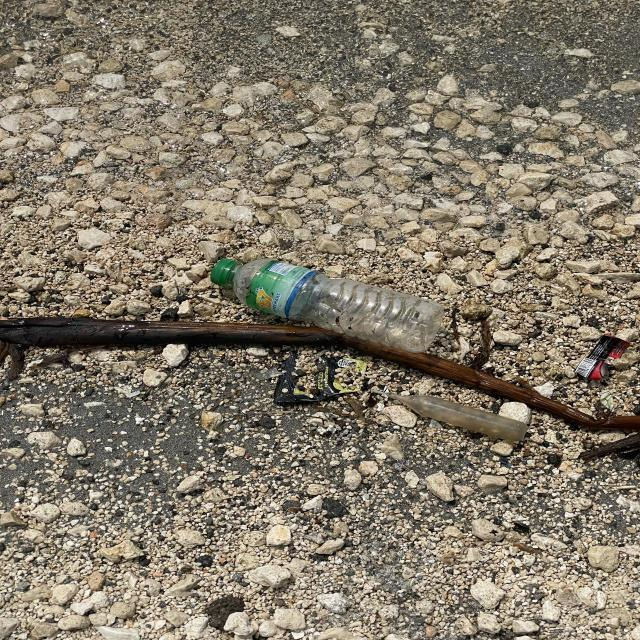plastic_waste: (210, 257, 446, 355), (272, 349, 370, 405), (575, 334, 633, 383)
